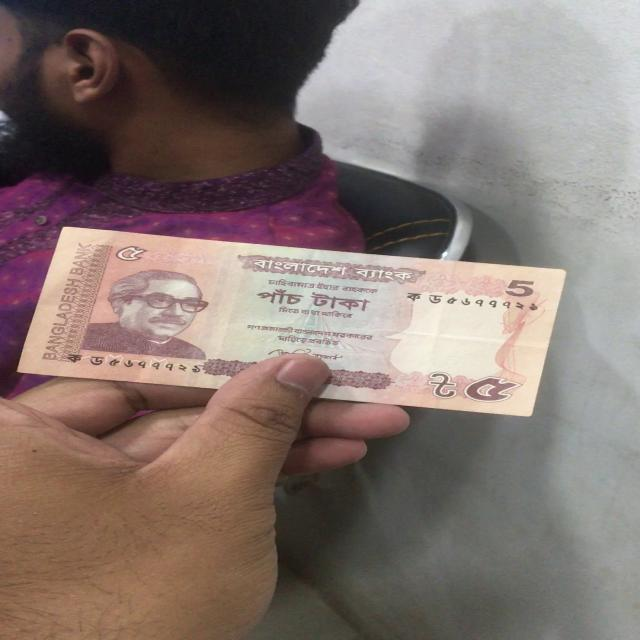Taka: (49, 226, 551, 417)
